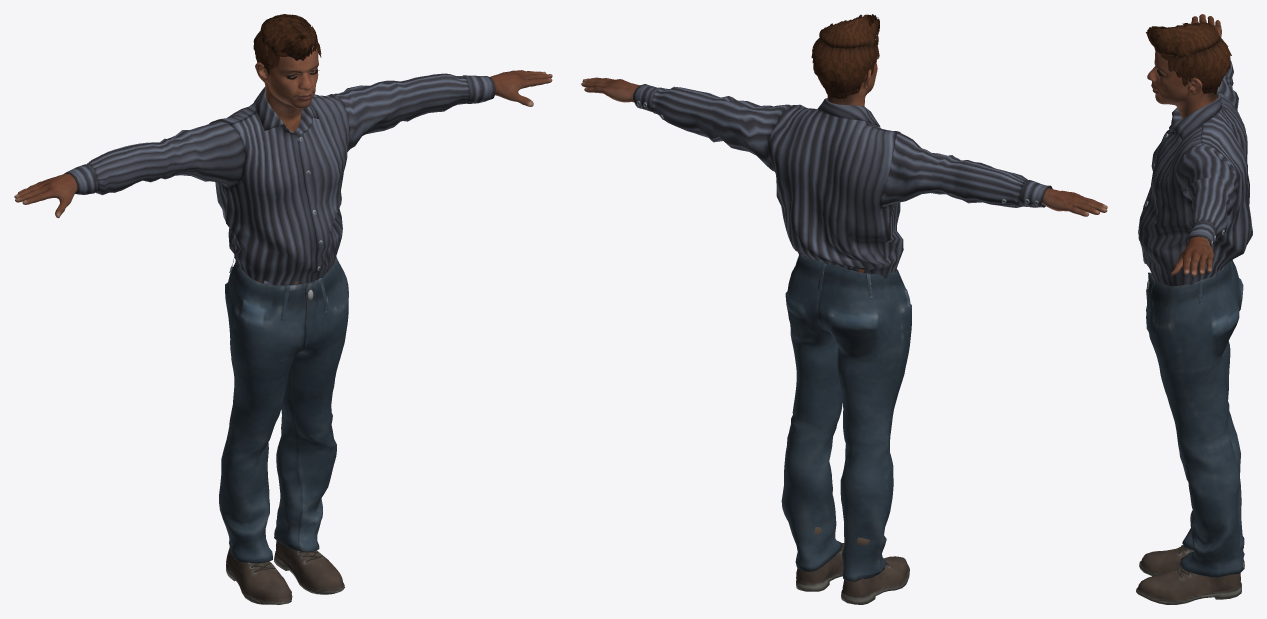
The model's file is BGMale1.obj.
The picture shows the model from 3 angles, left to right: view 1: azimuth 30°, elevation 25°; view 2: azimuth 150°, elevation 25°; view 3: azimuth 270°, elevation 25°; orthographic projection.
Parts seen in each view (by area): view 1: Tops, Bottoms, Body, Shoes, Hair; view 2: Bottoms, Tops, Hair, Shoes, Body; view 3: Bottoms, Tops, Hair, Shoes, Body.
Part boxes in pixels (box(x1,y1,x2,y2)): Tops: box(64, 73, 495, 285); Bottoms: box(219, 256, 348, 563); Body: box(14, 19, 552, 284); Shoes: box(226, 499, 344, 604); Hair: box(253, 14, 321, 75); Bottoms: box(781, 254, 911, 581); Tops: box(633, 84, 1052, 278); Hair: box(811, 14, 879, 98); Shoes: box(796, 527, 909, 604); Body: box(581, 39, 1107, 272); Bottoms: box(1146, 260, 1244, 577); Tops: box(1138, 60, 1252, 286); Hair: box(1146, 22, 1231, 94); Shoes: box(1136, 545, 1244, 604); Body: box(1147, 14, 1221, 276).
Size of the model in its own units: 176 by 178 by 33.57.
